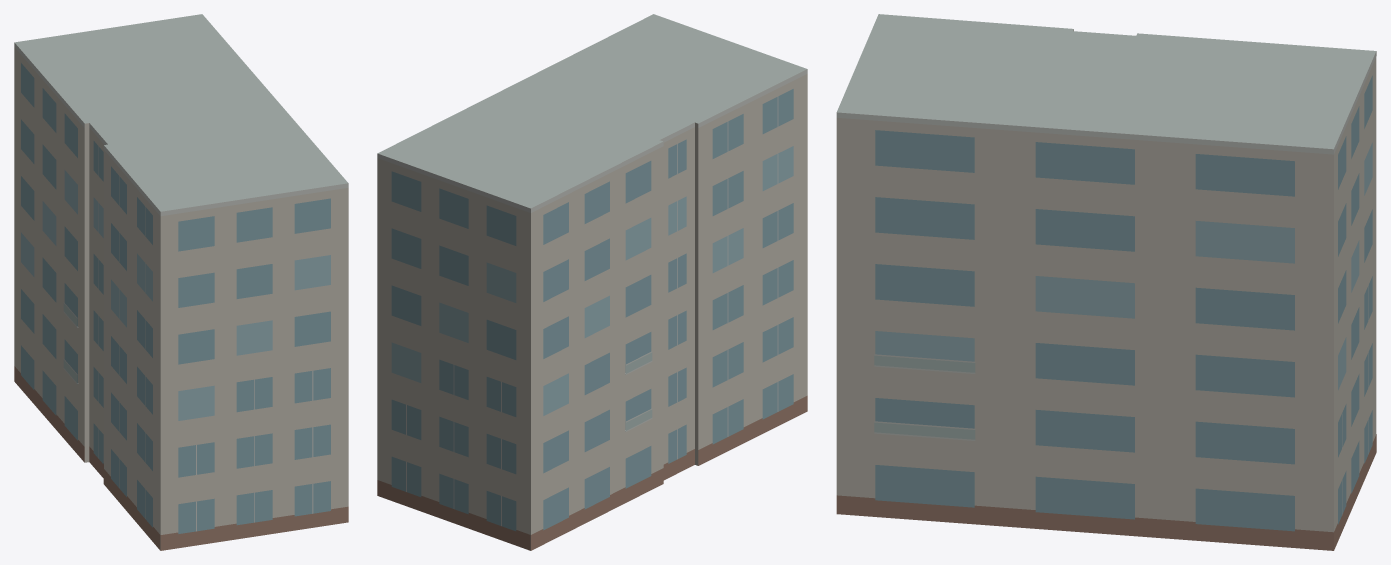
The model's file is survey-upis-32783925.glb.
3 views of the same model, side by side, from view 1: azimuth 30°, elevation 25°; view 2: azimuth 150°, elevation 25°; view 3: azimuth 270°, elevation 25° (orthographic). The views are drawn at different scales.
Parts seen in each view (by area): view 1: survey-upis-32783925.tmp; view 2: survey-upis-32783925.tmp; view 3: survey-upis-32783925.tmp.
Boxes of the visible parts, left/top/right/bottom form: survey-upis-32783925.tmp: left=14, top=14, right=348, bottom=550; survey-upis-32783925.tmp: left=377, top=14, right=807, bottom=550; survey-upis-32783925.tmp: left=836, top=14, right=1376, bottom=550.
Size of the model in its own units: 13.22 by 18.3 by 22.3.
